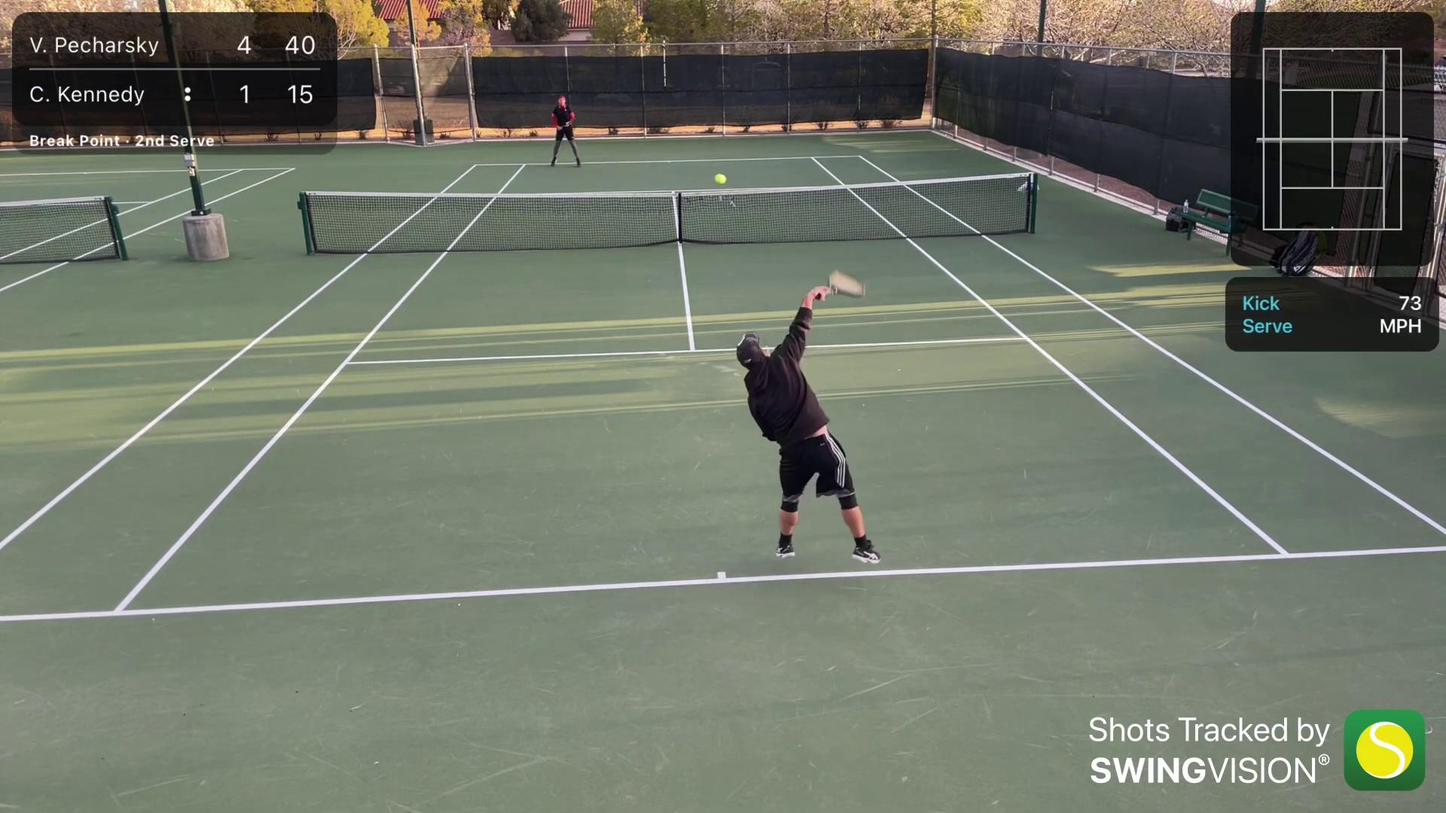ball: (712, 172, 728, 185)
